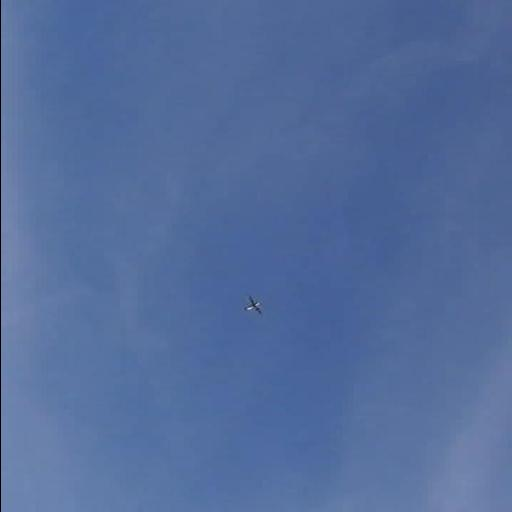uav: (237, 296, 263, 318)
